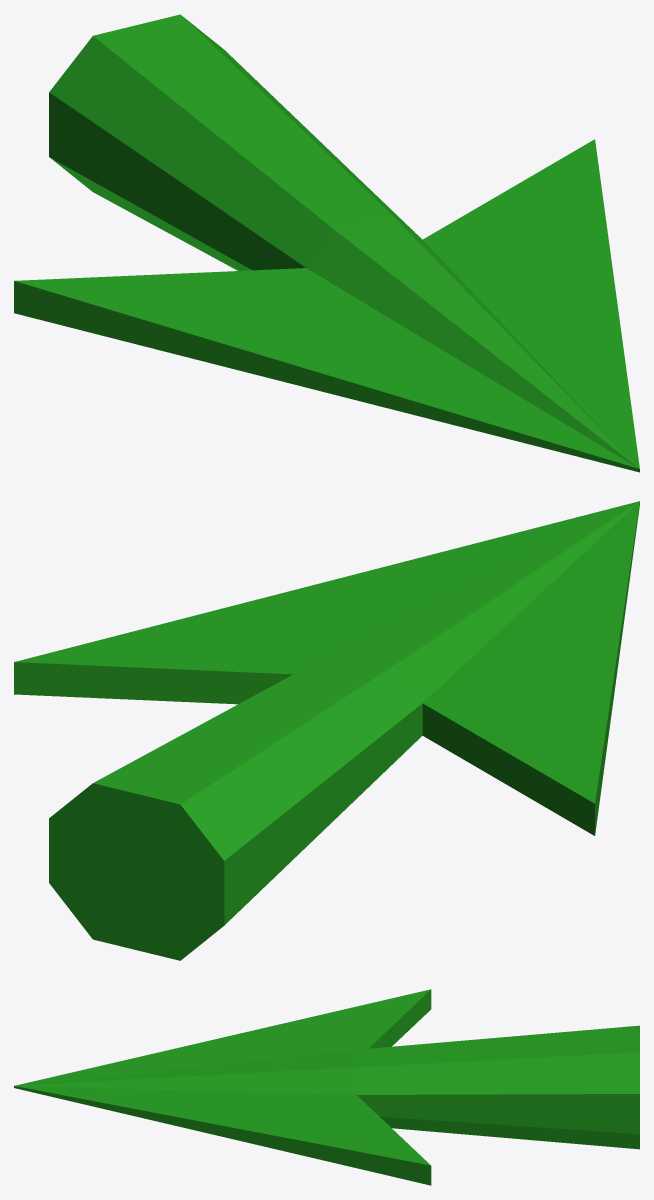
The model's file is arrow.obj.
The picture shows the model from 3 angles, top to bottom: view 1: azimuth 30°, elevation 25°; view 2: azimuth 150°, elevation 25°; view 3: azimuth 270°, elevation 25°; orthographic projection. The views are drawn at different scales.
Parts seen in each view (by area): view 1: Plane; view 2: Plane; view 3: Plane.
Part boxes in pixels (x1,y1,x2,y2): Plane: (14,14,639,472); Plane: (14,501,639,960); Plane: (14,989,639,1185).
Bounding box in the file's own units: 2 × 0.5143 × 3.
Materials: 1 (1 with a texture image).
